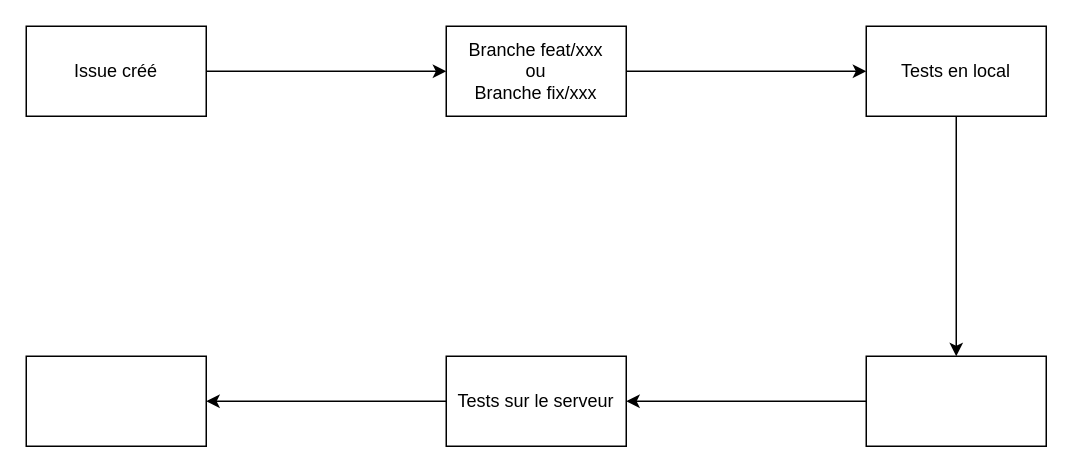
Image size: 1073x473. Some labels were removed from this diagram. Each missing label, with the box of its shape:
PR => develop: (865, 355, 1046, 446)
PR => master: (25, 355, 206, 446)
